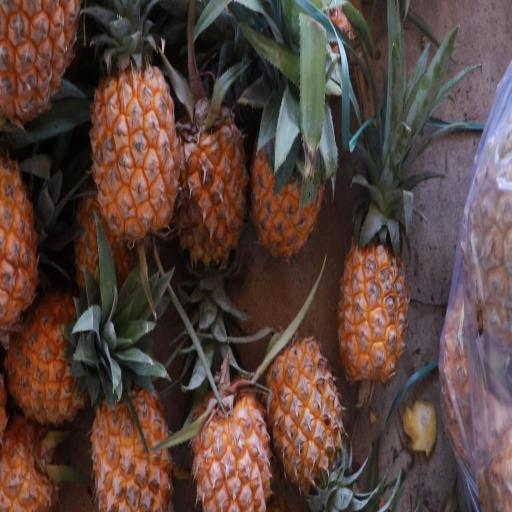Pineapple - v8 v1: (86, 25, 180, 247), (4, 284, 132, 430), (264, 332, 347, 512), (175, 77, 250, 274), (336, 198, 412, 388), (248, 94, 327, 269), (86, 371, 177, 512), (188, 367, 274, 512), (0, 150, 53, 340)
